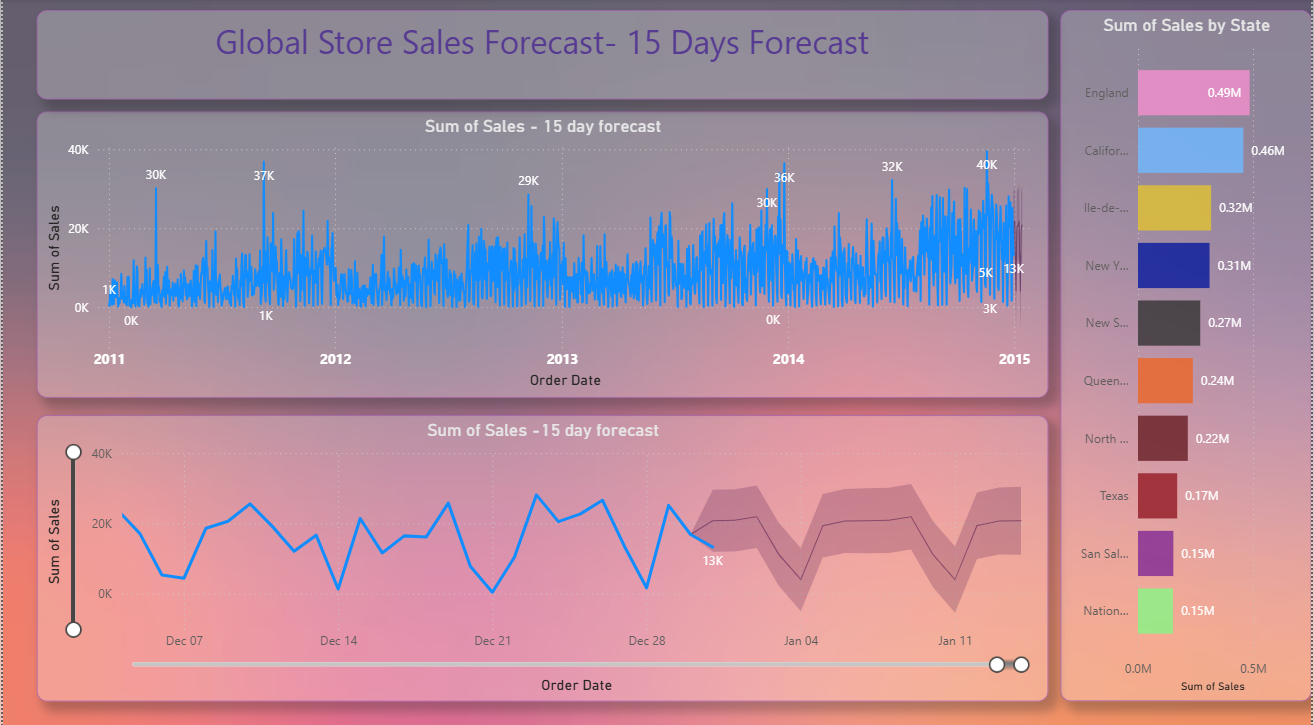

What the dashboard file says about the page in this screenshot:
{"tool":"powerbi","page":{"name":"Forecasting ","canvas":[1280,720],"ordinal":1},"visuals":[{"type":"lineChart","title":"Sum of Sales - 15 day forecast","fields":{"Y":["Sum(Orders.Sales)"],"Category":["Orders.Order Date"]},"box":[33,110.1,989.3,280],"z":0},{"type":"lineChart","title":"Sum of Sales -15 day forecast","fields":{"Y":["Sum(Orders.Sales)"],"Category":["Orders.Order Date"]},"box":[33,407.2,989.3,280],"z":1000},{"type":"textbox","box":[33,11,989.3,86.8],"z":2000},{"type":"clusteredBarChart","fields":{"Y":["Sum(Orders.Sales)"],"Category":["Orders.State"]},"box":[1034.5,11,245.8,676.2],"z":3000}]}

Visuals, with their boxes in screenshot pixels (x1, y1, x2, y2), scaled from the page's 1280x720 canvas onto the 1314x725 screenshot:
"Sum of Sales - 15 day forecast" lineChart: <box>34,111,1049,393</box>
"Sum of Sales -15 day forecast" lineChart: <box>34,410,1049,692</box>
textbox: <box>34,11,1049,98</box>
clusteredBarChart - Sum(Orders.Sales) x Orders.State: <box>1062,11,1313,692</box>
